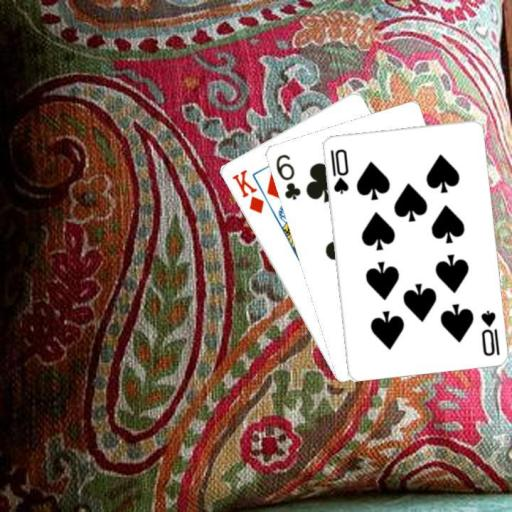10S: (326, 145, 350, 196), (477, 306, 501, 357)
6C: (273, 151, 303, 201)
KD: (229, 167, 266, 216)
